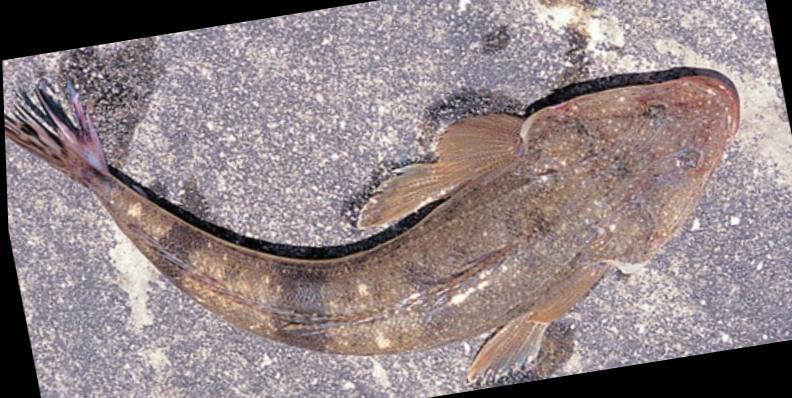fish: (3, 72, 742, 384)
